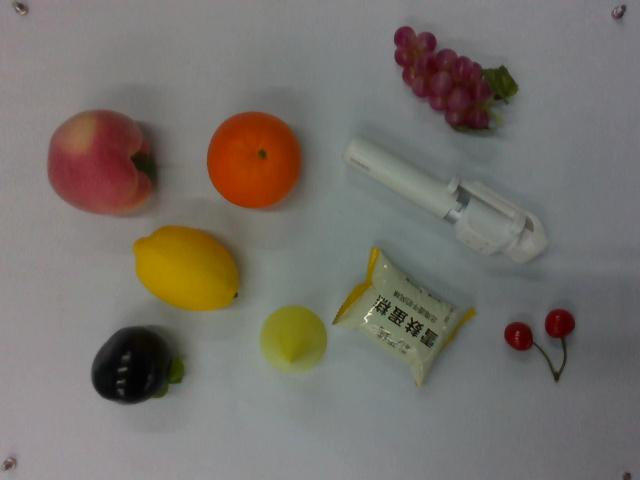cherry: (504, 305, 575, 381)
cone: (255, 303, 327, 376)
dessert: (330, 247, 475, 387)
grape: (395, 23, 516, 135)
lemon: (134, 226, 245, 313)
mangosteen: (92, 323, 183, 404)
orange: (204, 109, 303, 209)
peach: (48, 110, 157, 214)
selfiestick: (342, 135, 554, 269)
